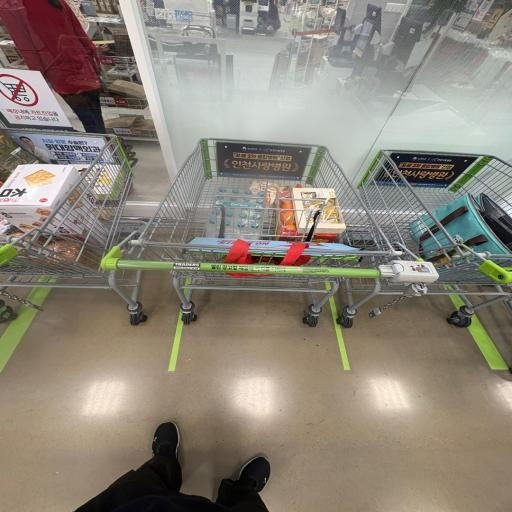fully_cart: (93, 133, 443, 334), (335, 144, 512, 338), (0, 126, 159, 331)
